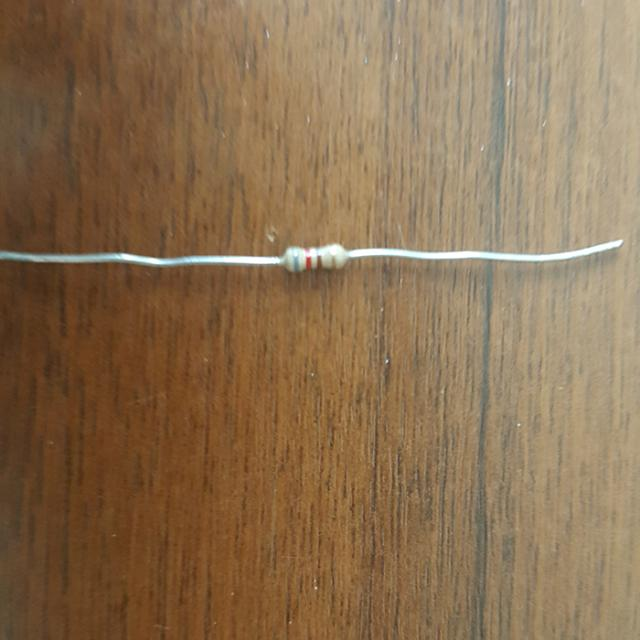brown: (316, 249, 322, 266)
gold: (329, 245, 336, 268)
grey: (293, 246, 299, 270)
red: (304, 249, 311, 269)
resistor: (278, 233, 359, 294)
